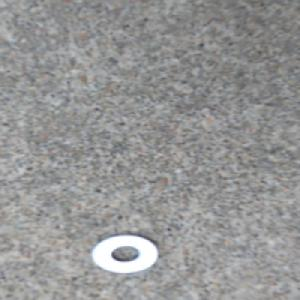Washer: (88, 233, 161, 274)
